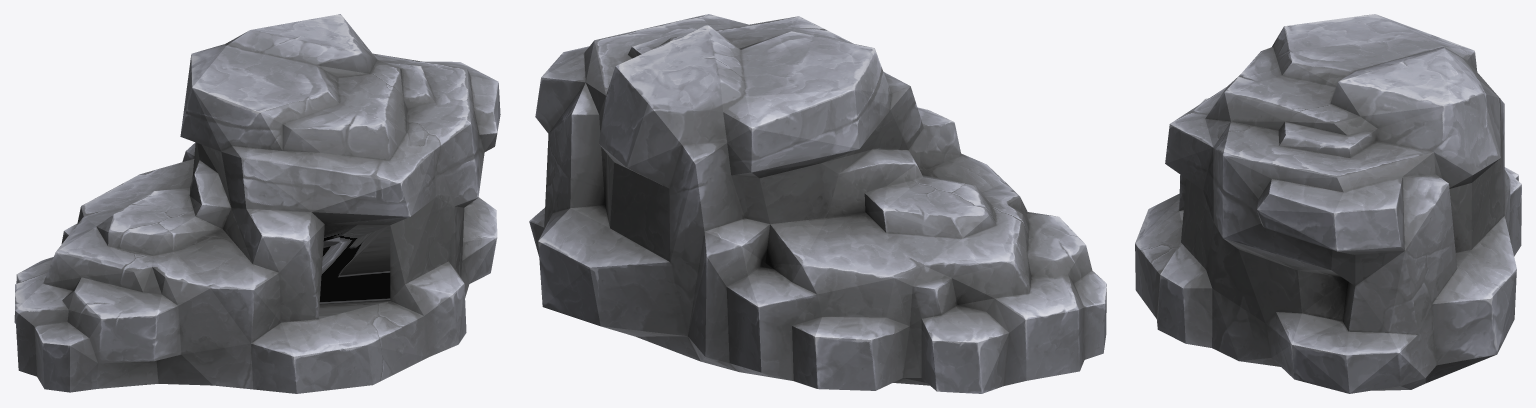
The model's file is PrototypeTwoRock3.fbx.
The picture shows the model from 3 angles, left to right: view 1: azimuth 30°, elevation 25°; view 2: azimuth 150°, elevation 25°; view 3: azimuth 270°, elevation 25°; orthographic projection. The views are drawn at different scales.
Parts seen in each view (by area): view 1: Rock3; view 2: Rock3; view 3: Rock3.
Part boxes in pixels (x1,y1,x2,y2): Rock3: [14, 14, 500, 393]; Rock3: [529, 14, 1106, 393]; Rock3: [1135, 14, 1521, 393].
Size of the model in its own units: 15501 by 7647 by 10262.
